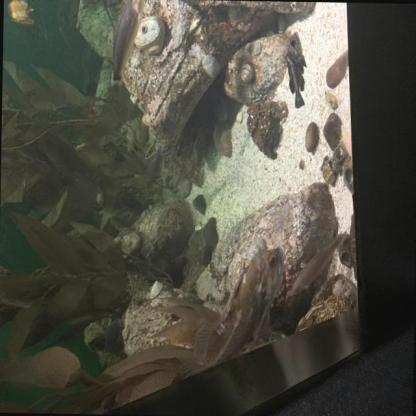fish: (179, 241, 286, 386), (107, 0, 148, 90), (282, 29, 310, 110), (7, 0, 35, 27)
